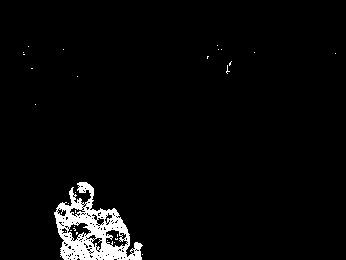person: (56, 182, 125, 239)
